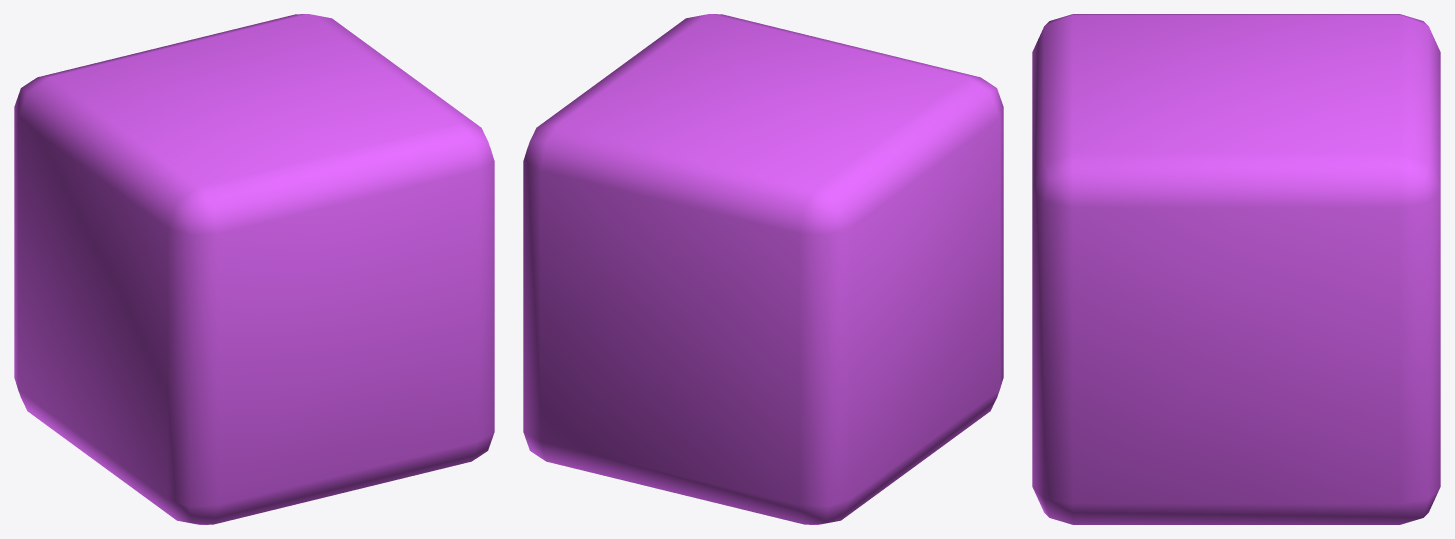
Rendered from roundCube-glass.obj.
3 renders of one model, left to right at view 1: azimuth 30°, elevation 25°; view 2: azimuth 150°, elevation 25°; view 3: azimuth 270°, elevation 25°, orthographic. The views are drawn at different scales.
Parts seen in each view (by area): view 1: Cube.001; view 2: Cube.001; view 3: Cube.001.
Boxes of the visible parts, left/top/right/bottom form: Cube.001: left=14, top=14, right=494, bottom=524; Cube.001: left=523, top=14, right=1003, bottom=524; Cube.001: left=1032, top=14, right=1440, bottom=524.
Size of the model in its own units: 0.15 by 0.15 by 0.15.
